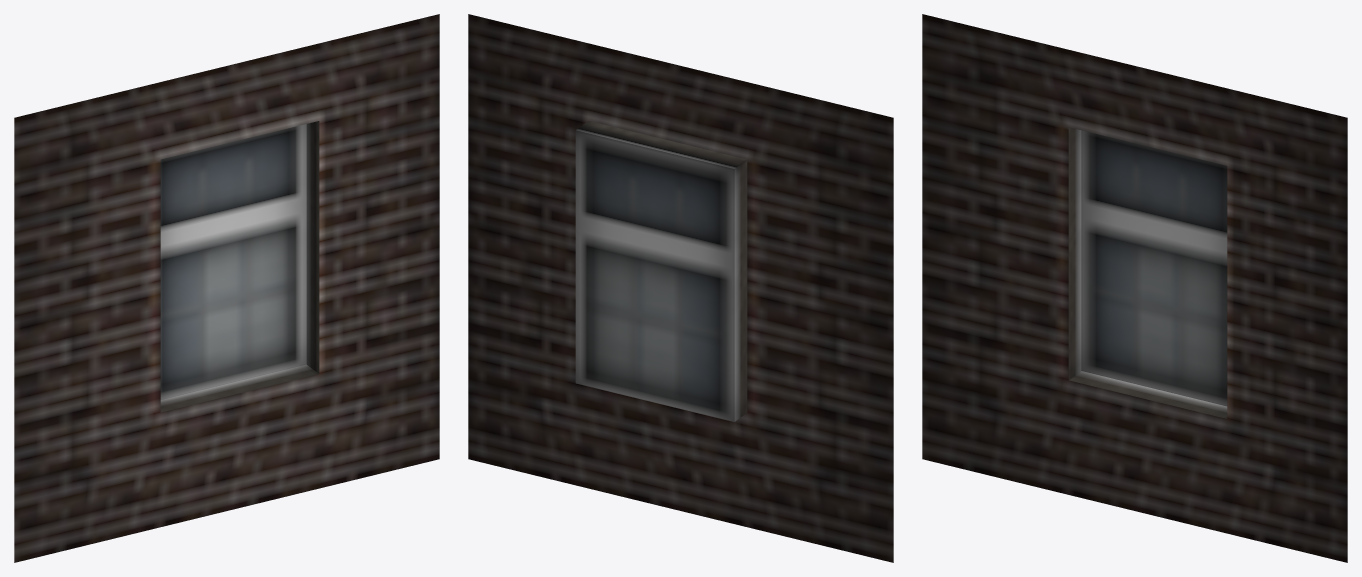
File: B8_WindowB.FBX
3 renders of one model, left to right at view 1: azimuth 30°, elevation 25°; view 2: azimuth 150°, elevation 25°; view 3: azimuth 330°, elevation 25°, orthographic.
Parts seen in each view (by area): view 1: B8_WindowB; view 2: B8_WindowB; view 3: B8_WindowB.
Boxes of the visible parts, x1,y1,x2,y2 form: B8_WindowB: (14, 14, 439, 562); B8_WindowB: (468, 14, 893, 562); B8_WindowB: (922, 14, 1347, 562).
Bounding box in the file's own units: 4 × 4 × 0.2091.
